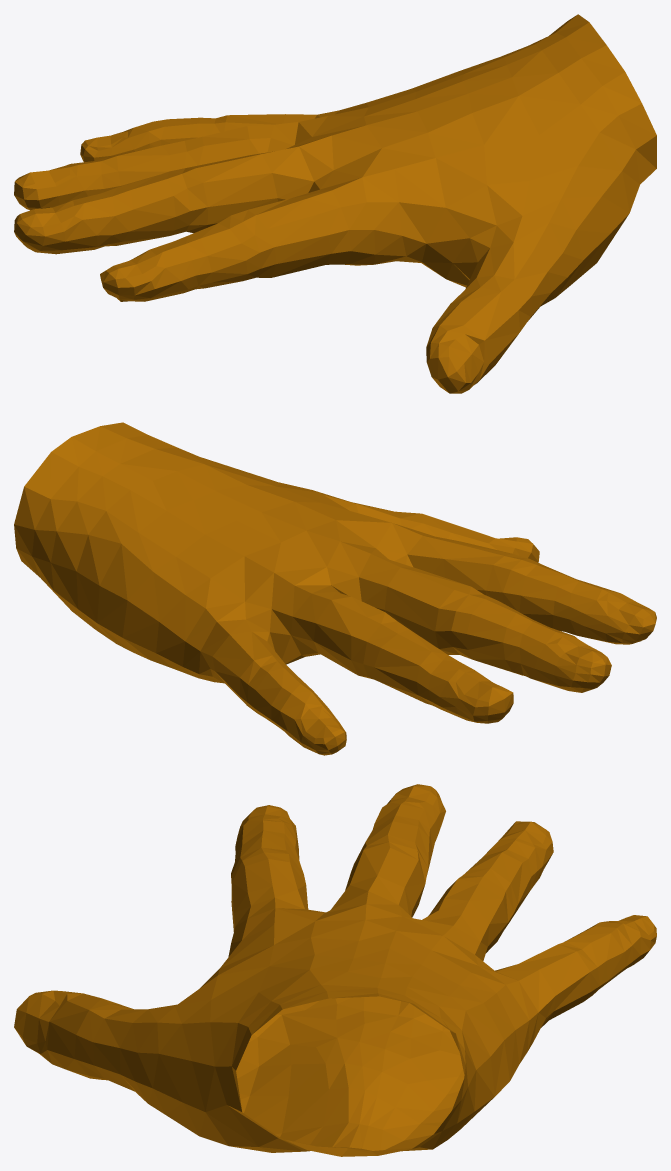
The model's file is mano_layer.obj.
3 views of the same model, one above another, from view 1: azimuth 30°, elevation 25°; view 2: azimuth 150°, elevation 25°; view 3: azimuth 270°, elevation 25° (orthographic). The views are drawn at different scales.
Bounding box in the file's own units: 0.193 × 0.0613 × 0.1677.
